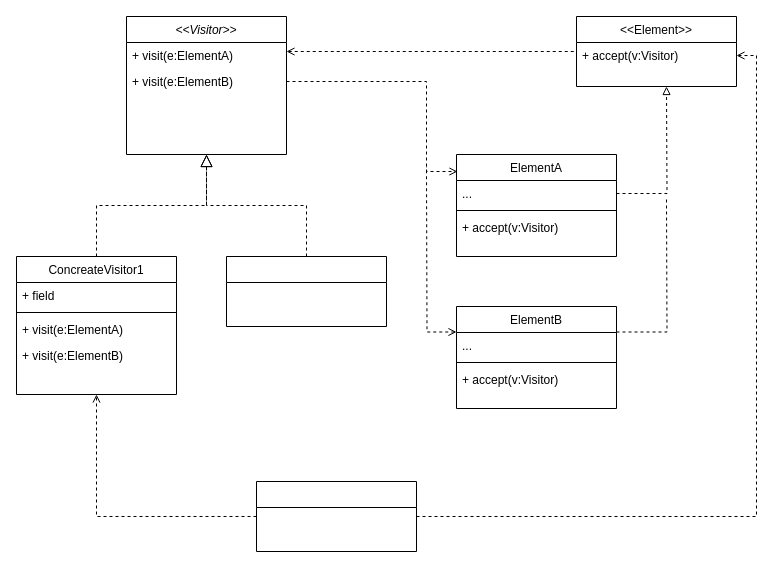
Some shapes in this 773 by 568 pixel diagram are drawn without their labels. The centre of each missing label's shape, as x and y in pixels:
"Client" goes at point 336,516.
"ConcreateVistor2" goes at point 306,291.
